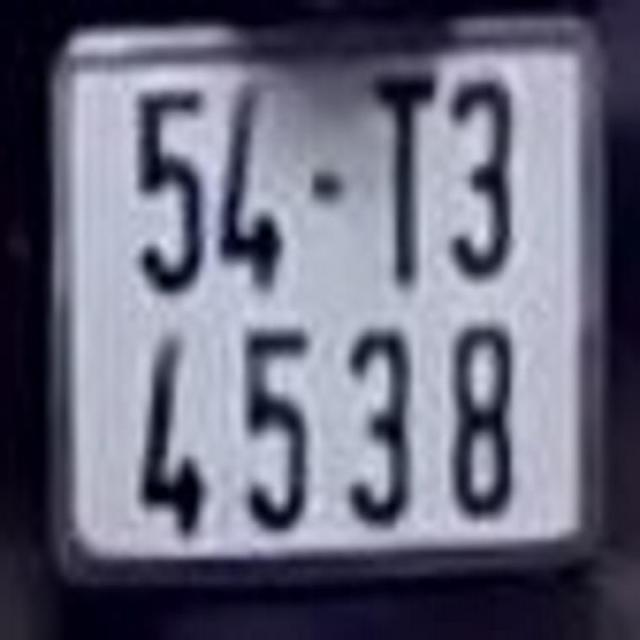3: (448, 67, 515, 288), (345, 321, 415, 530)
4: (217, 74, 290, 297), (137, 328, 211, 534)
5: (236, 322, 312, 536), (132, 85, 206, 292)
8: (443, 316, 518, 528)
T: (358, 67, 440, 290)
